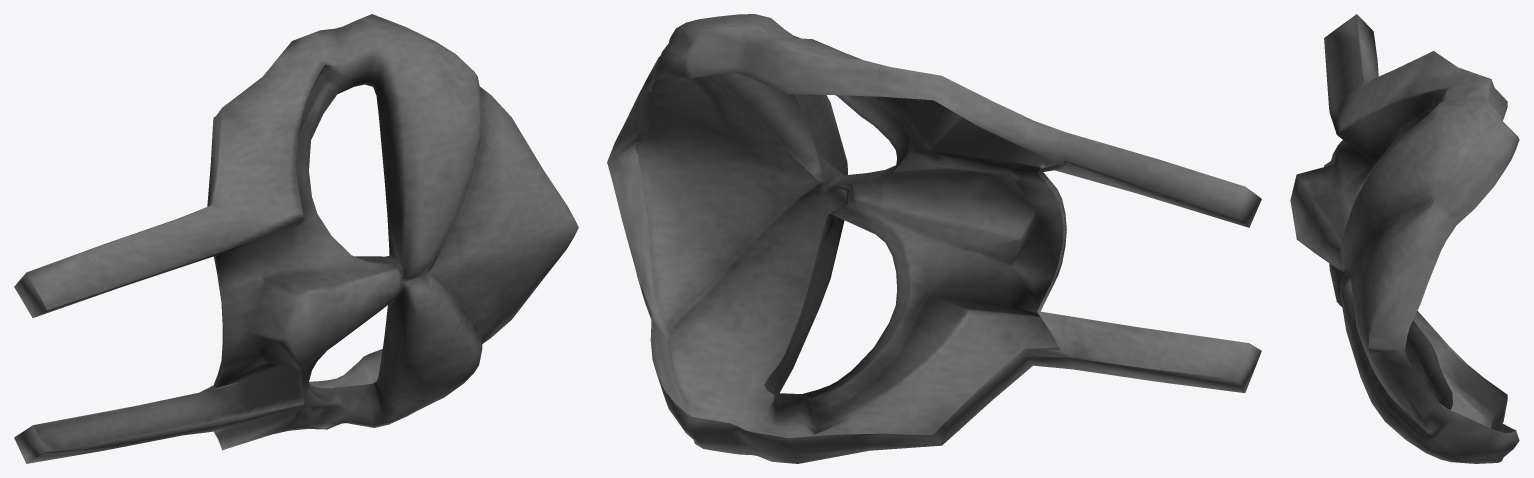
File: F_MFDoom.fbx
3 views of the same model, side by side, from view 1: azimuth 30°, elevation 25°; view 2: azimuth 150°, elevation 25°; view 3: azimuth 270°, elevation 25° (orthographic). The views are drawn at different scales.
Visible parts, largest first — view 1: Doom; view 2: Doom; view 3: Doom.
Part boxes in pixels (x1=…): Doom: x1=14, y1=14, x2=578, y2=463; Doom: x1=607, y1=14, x2=1261, y2=463; Doom: x1=1290, y1=14, x2=1519, y2=463.
Size of the model in its own units: 0.1566 by 0.1044 by 0.0605.
